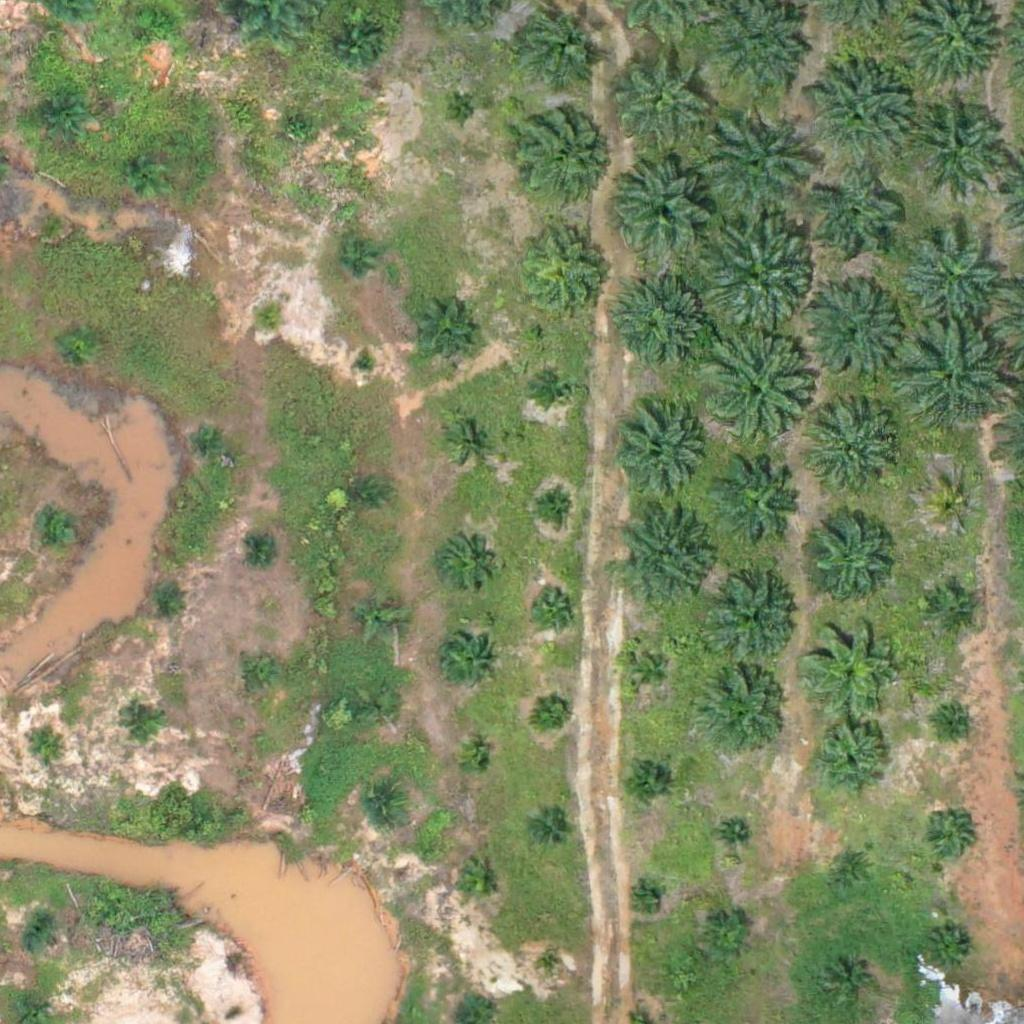Kelapa_Sawit: (692, 213, 817, 338), (692, 332, 817, 457), (899, 324, 1012, 437), (804, 59, 917, 172), (698, 108, 811, 221), (903, 225, 1003, 326), (807, 171, 907, 272), (802, 280, 902, 381), (605, 41, 705, 142), (616, 158, 716, 259), (613, 277, 713, 378), (610, 405, 710, 506), (510, 102, 610, 203), (515, 223, 615, 324), (800, 615, 900, 716), (618, 507, 718, 608), (909, 95, 1009, 195), (813, 409, 901, 498), (807, 716, 895, 804), (698, 665, 786, 753), (710, 573, 798, 661), (717, 460, 805, 548), (807, 505, 894, 593), (410, 304, 473, 367), (437, 631, 499, 694), (329, 18, 379, 69), (440, 534, 490, 585), (453, 858, 503, 909), (356, 591, 406, 642), (928, 583, 978, 633), (922, 812, 972, 862), (925, 926, 975, 976), (822, 958, 872, 1008), (829, 844, 879, 894), (702, 914, 752, 964), (621, 754, 671, 804), (929, 483, 979, 533), (624, 645, 674, 695), (529, 581, 579, 631), (35, 92, 85, 142), (346, 476, 384, 514), (138, 4, 176, 42), (129, 155, 167, 193), (281, 111, 319, 149), (443, 92, 481, 130), (249, 301, 287, 339), (540, 370, 578, 408), (19, 915, 57, 953), (39, 513, 76, 551), (456, 743, 494, 780), (534, 487, 571, 525), (452, 420, 489, 458), (246, 531, 284, 568), (122, 706, 159, 744), (363, 689, 401, 726), (536, 691, 573, 729), (333, 240, 370, 278), (30, 201, 67, 239), (26, 730, 63, 768), (532, 815, 569, 852), (364, 787, 401, 824), (144, 579, 181, 616), (241, 657, 278, 694), (61, 324, 98, 361), (192, 422, 229, 459), (633, 885, 658, 910), (538, 954, 563, 979), (943, 711, 968, 736), (352, 350, 377, 375), (721, 821, 745, 846)
